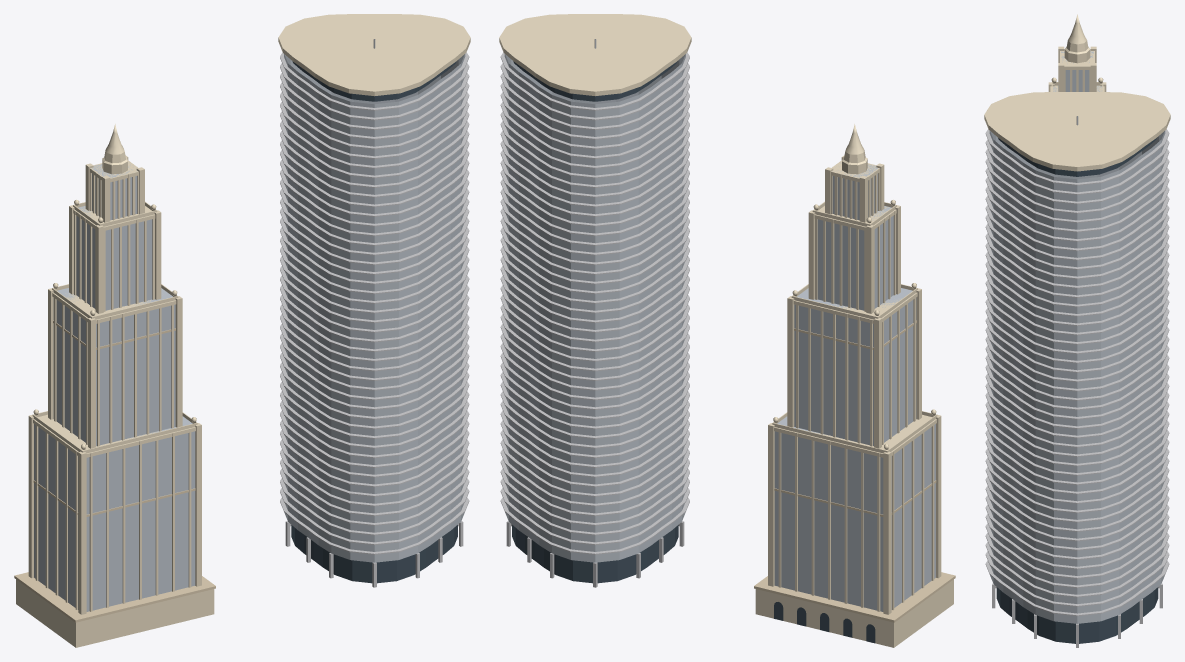
The model's file is sp_towers.glb.
3 renders of one model, left to right at view 1: azimuth 30°, elevation 25°; view 2: azimuth 150°, elevation 25°; view 3: azimuth 270°, elevation 25°, orthographic. The views are drawn at different scales.
Visible parts, largest first — view 1: italia, altino; view 2: italia, altino; view 3: italia, altino.
Boxes of the visible parts, bbox=[...] form: italia: bbox=[278, 14, 470, 587]; altino: bbox=[14, 124, 215, 647]; italia: bbox=[499, 14, 691, 587]; altino: bbox=[754, 124, 955, 647]; italia: bbox=[984, 91, 1170, 647]; altino: bbox=[1048, 14, 1106, 91].
Bounding box in the file's own units: 145 × 168 × 57.76.
